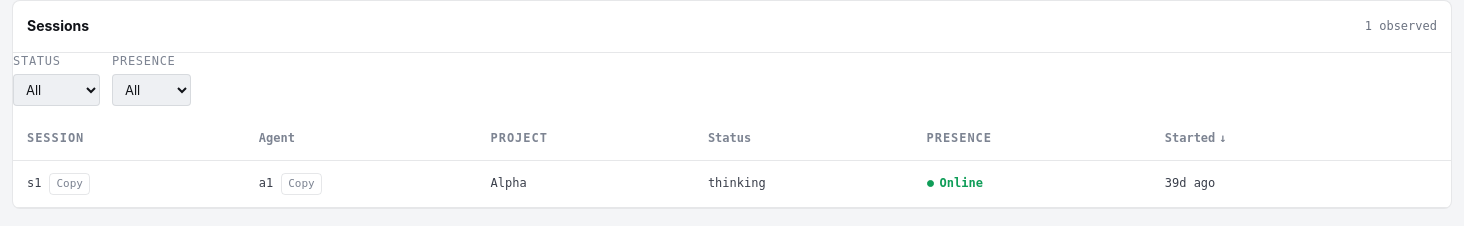
Test case: SessionsView › reports a filter that matches nothing instead of looking empty
Select "Offline" in the dropdown labelled "Presence" at (152, 90), box [112, 74, 191, 106]
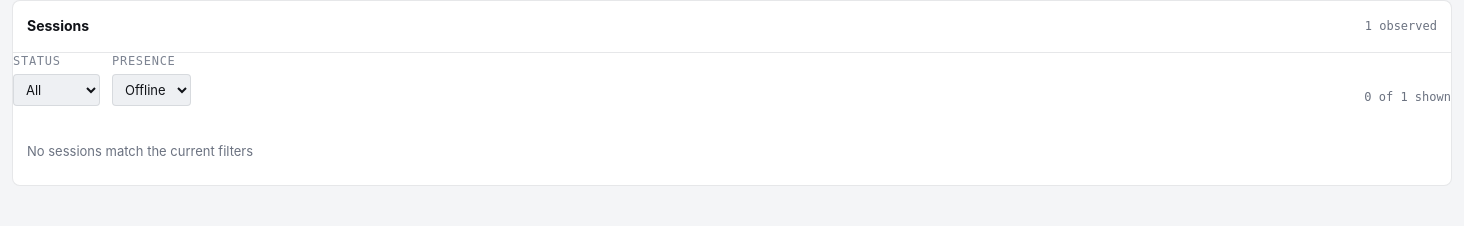
Check: the text "No sessions match the current filters" is shown, box [27, 143, 253, 159]
